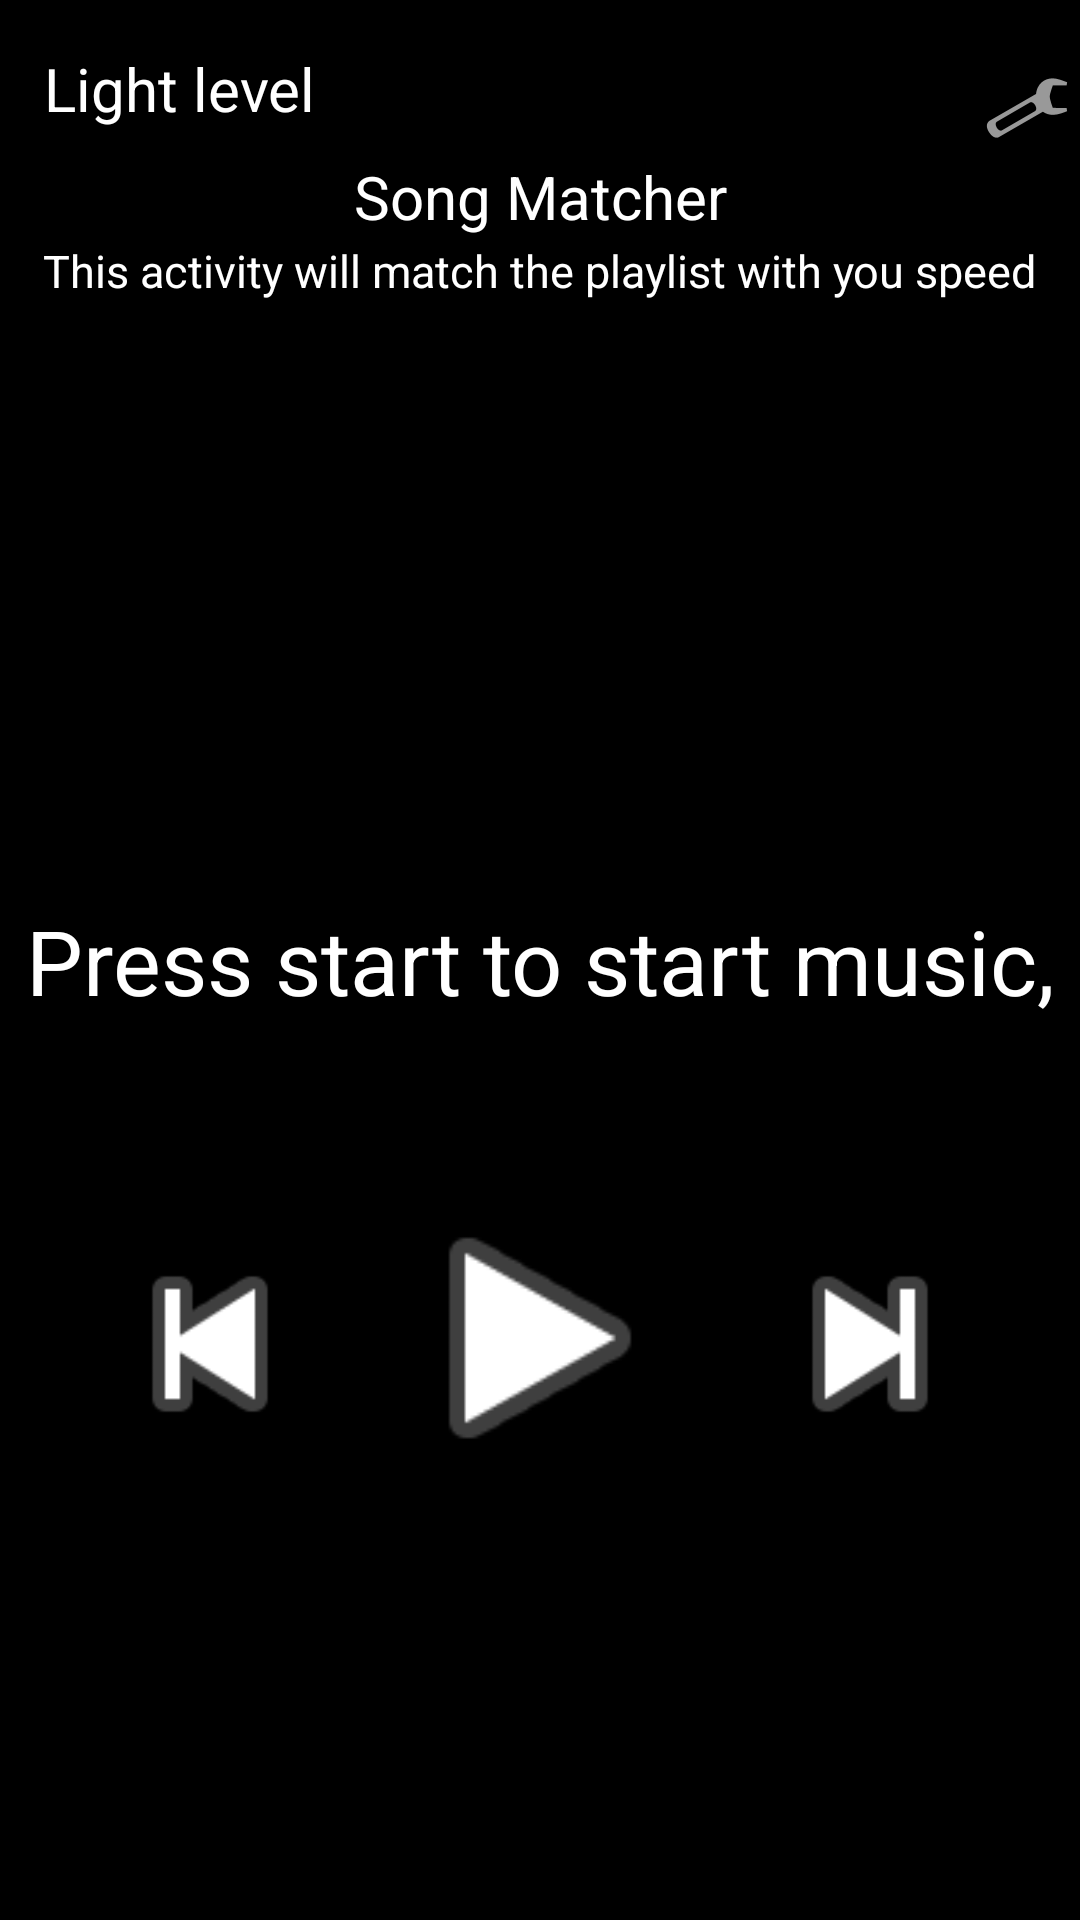

Icon click points for this 1080px×1920px phone screenshot, format point (x, y):
manage: point (1027, 108)
next: point (870, 1344)
play: point (540, 1338)
previous: point (210, 1344)
